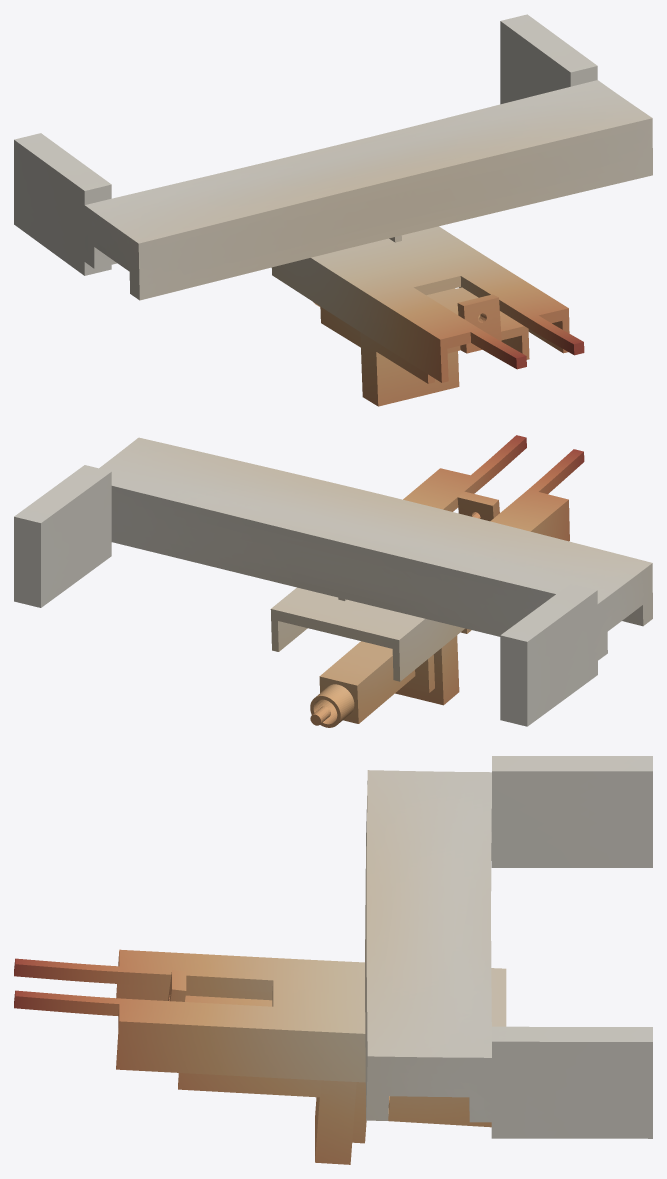
The model's file is gantry_h6_c12_Fz_u.glb.
3 renders of one model, top to bottom at view 1: azimuth 30°, elevation 25°; view 2: azimuth 150°, elevation 25°; view 3: azimuth 270°, elevation 25°, orthographic. The views are drawn at different scales.
Parts seen in each view (by area): view 1: geometry_0; view 2: geometry_0; view 3: geometry_0.
Part boxes in pixels (bbox=[...]): geometry_0: bbox=[14, 14, 652, 406]; geometry_0: bbox=[14, 435, 652, 727]; geometry_0: bbox=[14, 756, 652, 1164].
Size of the model in its own units: 761 by 302 by 718.
